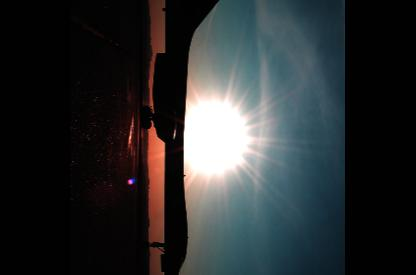AV8B: (143, 0, 227, 273)
